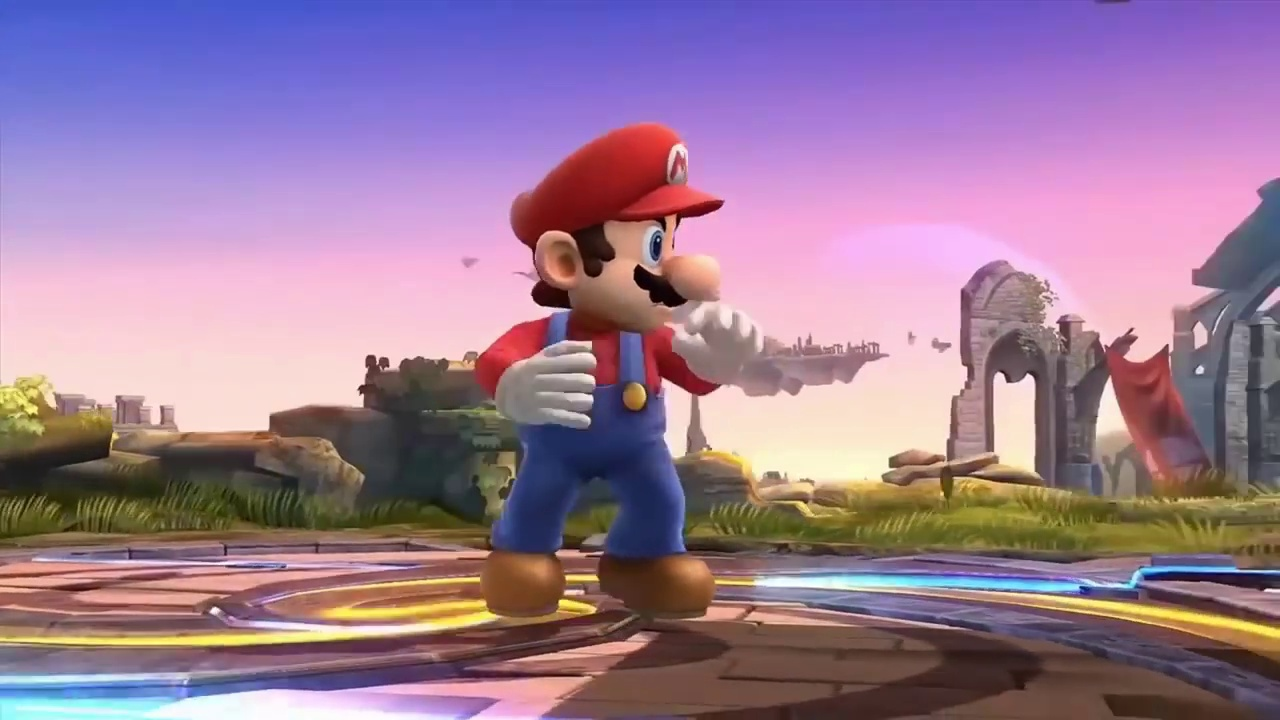Mario: (476, 122, 763, 618)
